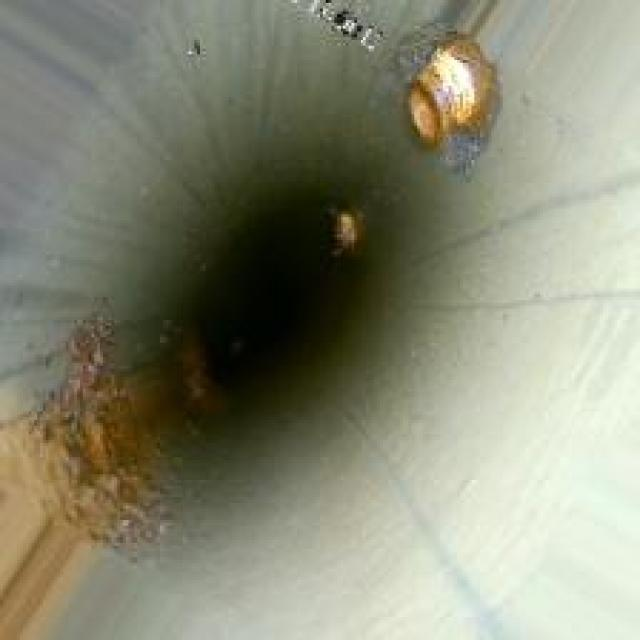ferrule: (406, 26, 514, 151), (312, 209, 374, 260)
